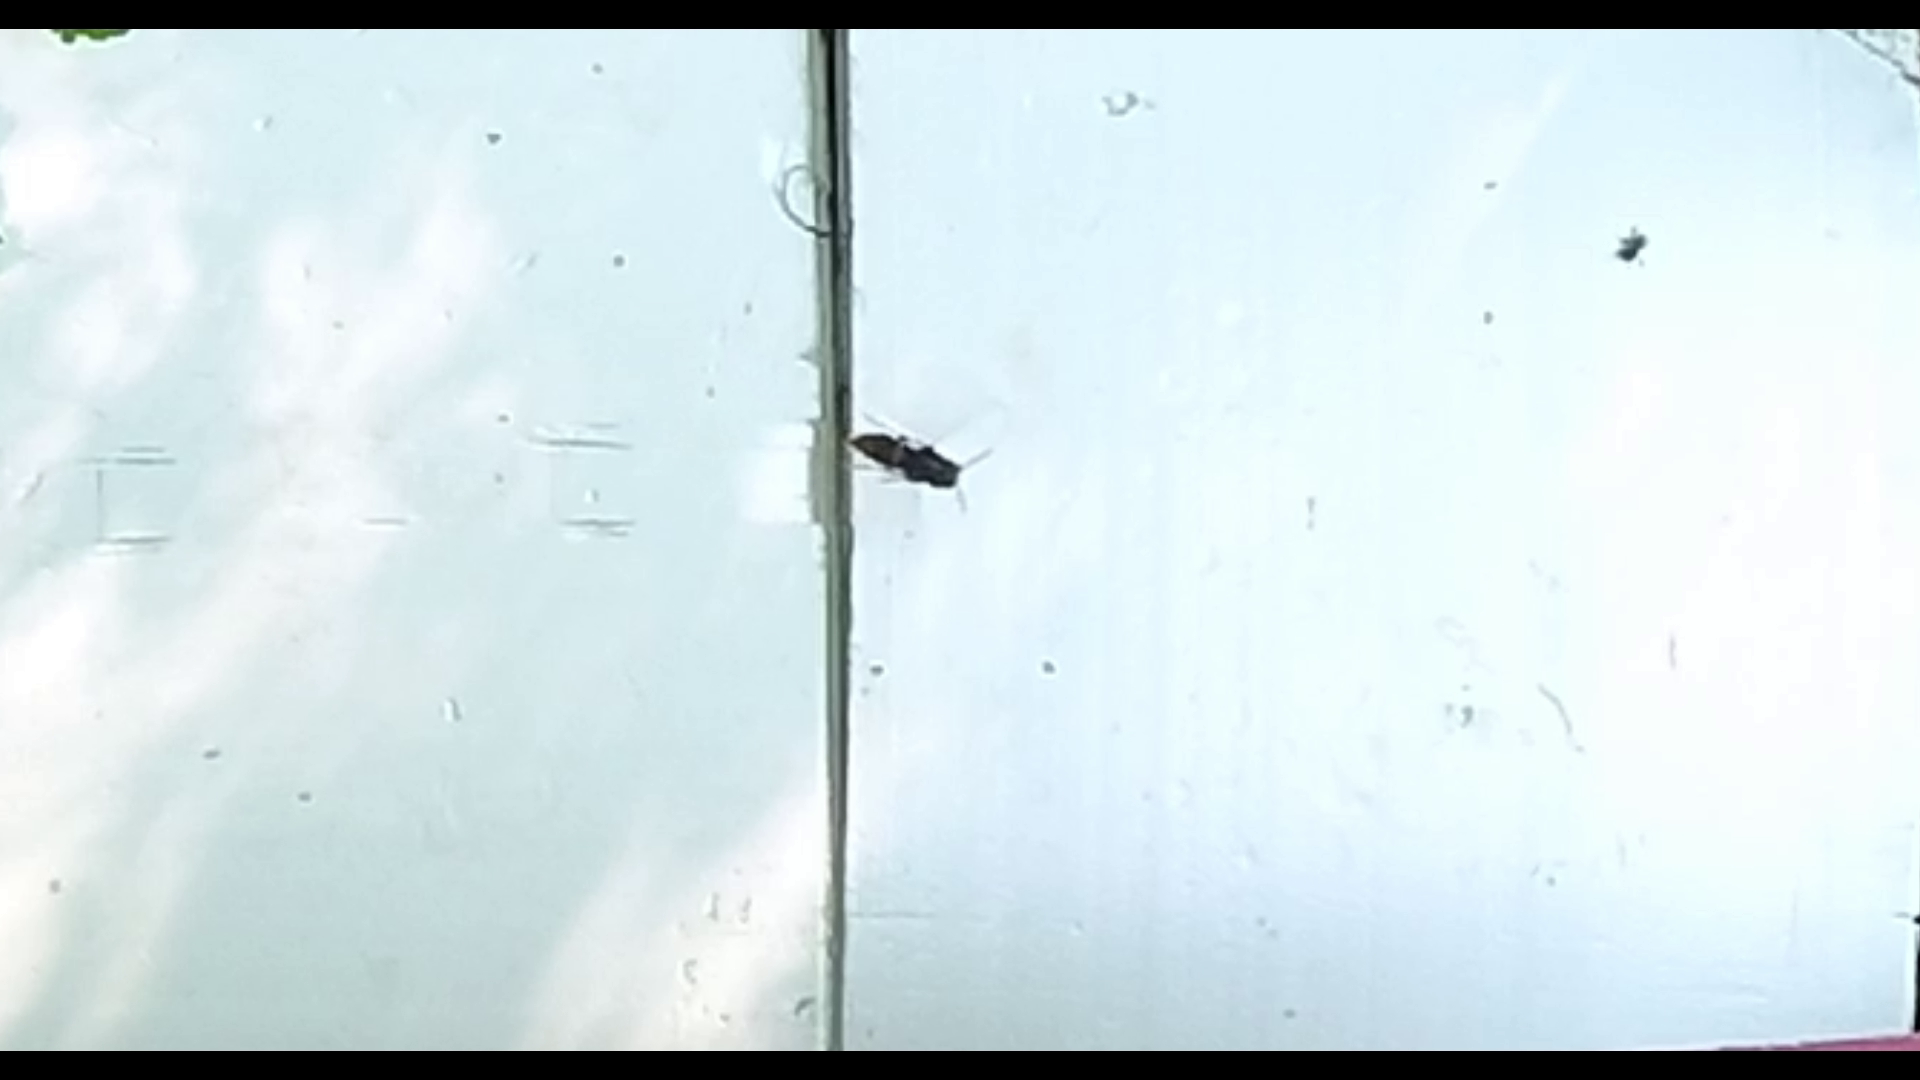Asian_hornets: (829, 401, 1010, 524)
